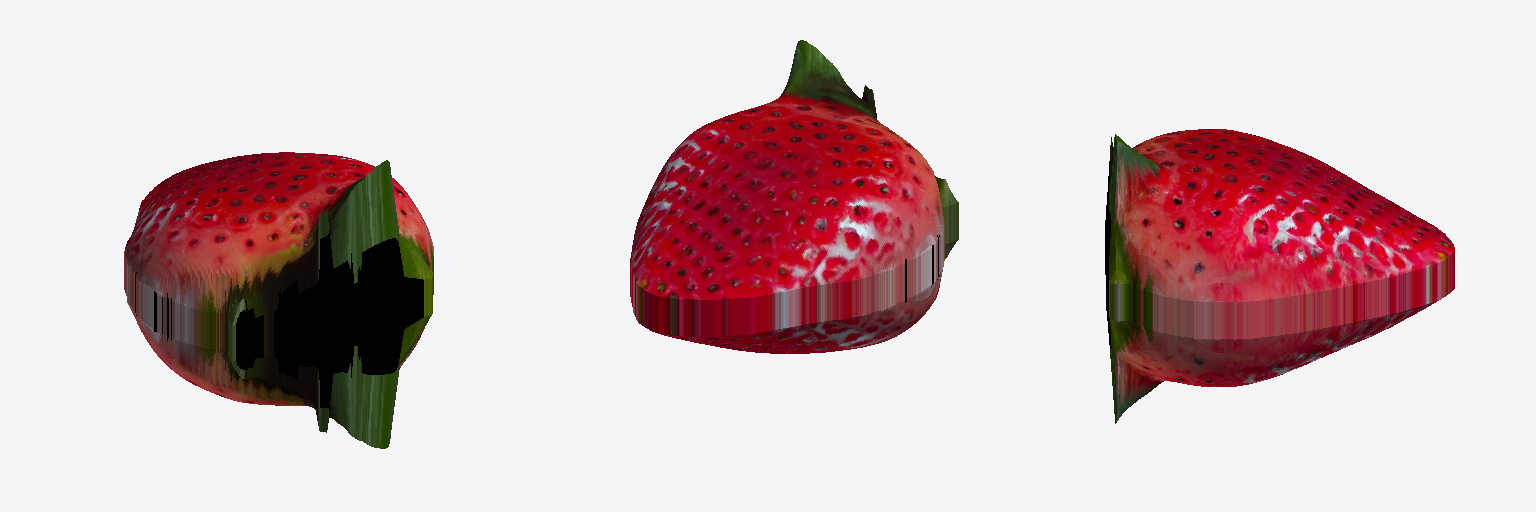
3 renders of one model, left to right at view 1: azimuth 30°, elevation 25°; view 2: azimuth 150°, elevation 25°; view 3: azimuth 270°, elevation 25°, orthographic.
Visible parts, largest first — view 1: Grid; view 2: Grid; view 3: Grid.
Part boxes in pixels (x1,y1,x2,y2): Grid: (124, 152, 433, 448); Grid: (630, 40, 958, 353); Grid: (1105, 129, 1454, 423).
Bounding box in the file's own units: 1.5 × 1.55 × 1.71.
Materials: 1 (1 with a texture image).